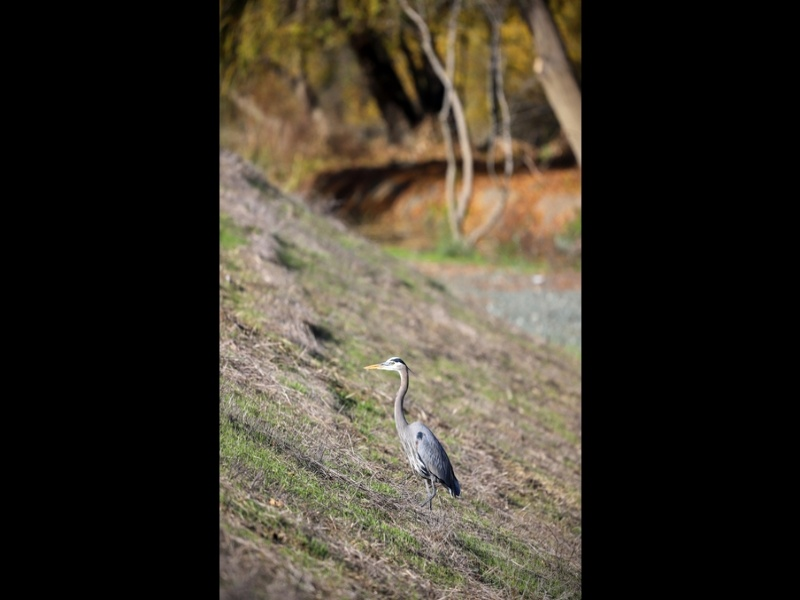heron: (364, 355, 461, 515)
